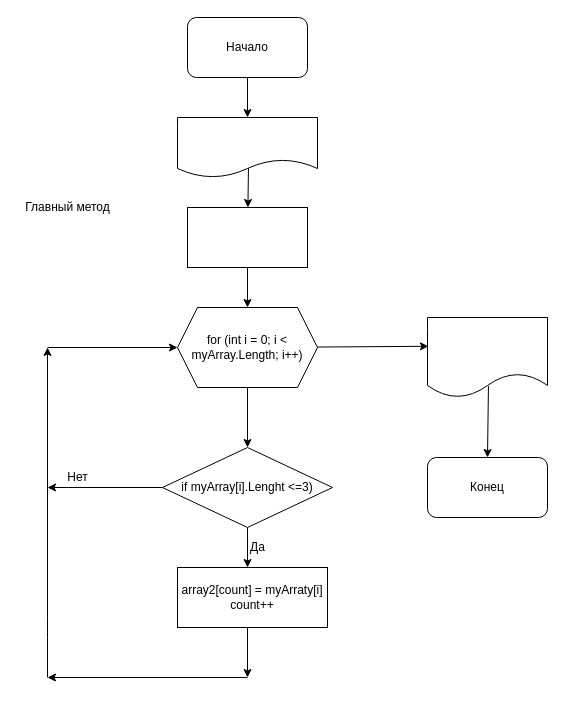
The diagram is 565 pixels wide and 703 high, and some of its shapes have lost their labels. Here are the shapes that lost their labels. From the top down, the box of each, then its label:
(176, 116, 318, 178): string [] myArray string [] array2
(186, 206, 308, 268): int count = 0
(426, 316, 548, 398): print array2
